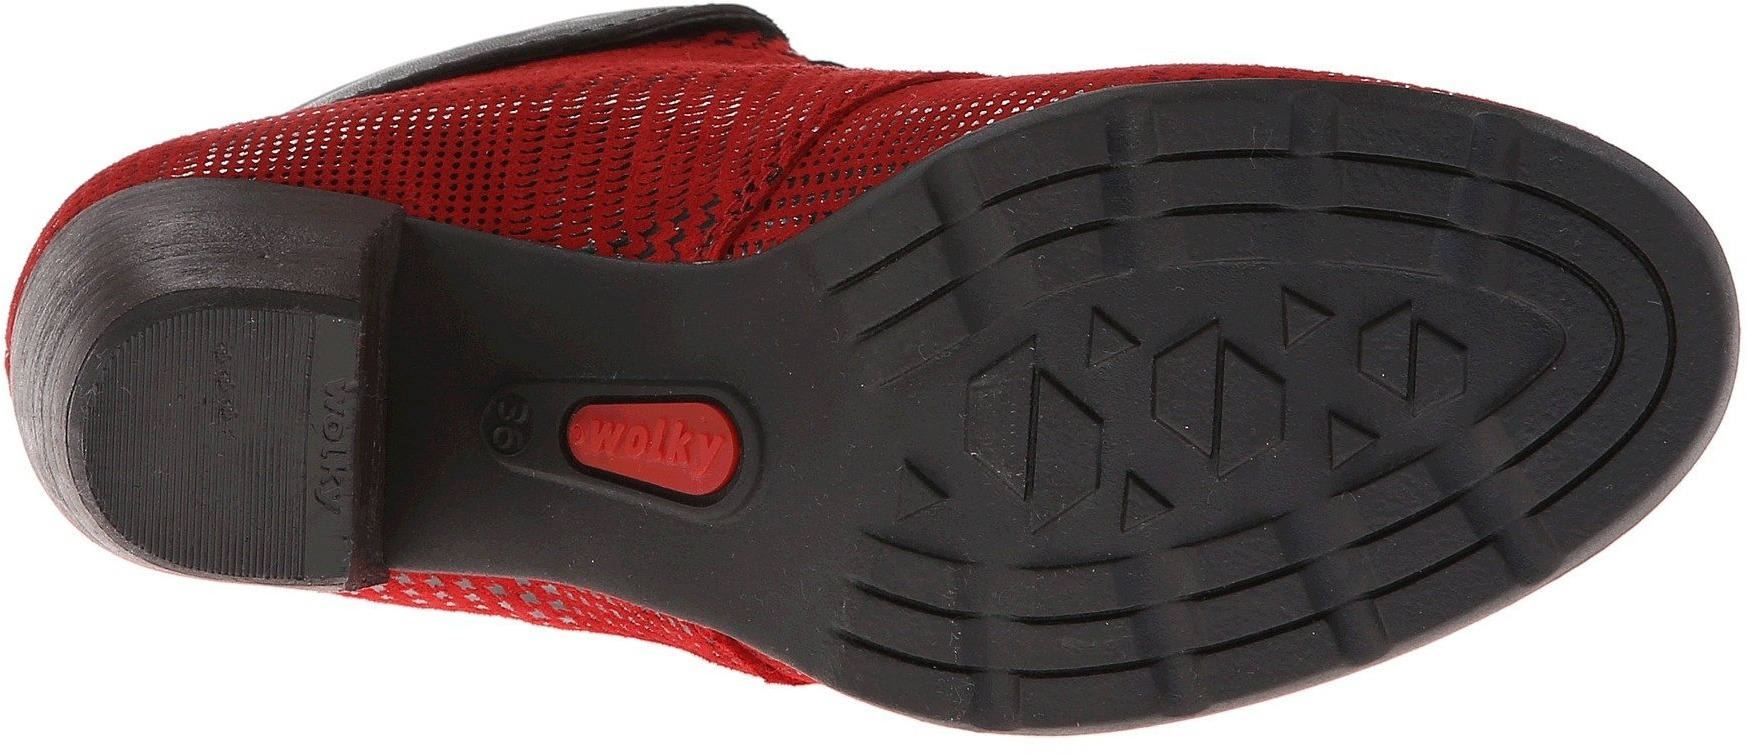other: (68, 284, 343, 582)
text: (468, 382, 546, 457)
